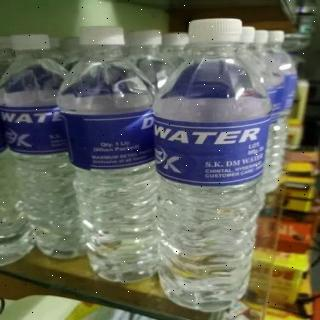Plastic-bottle: (151, 17, 257, 313), (56, 24, 164, 290), (3, 29, 103, 279)
